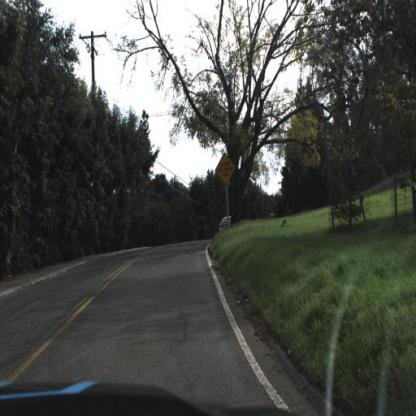car: (219, 217, 239, 237)
